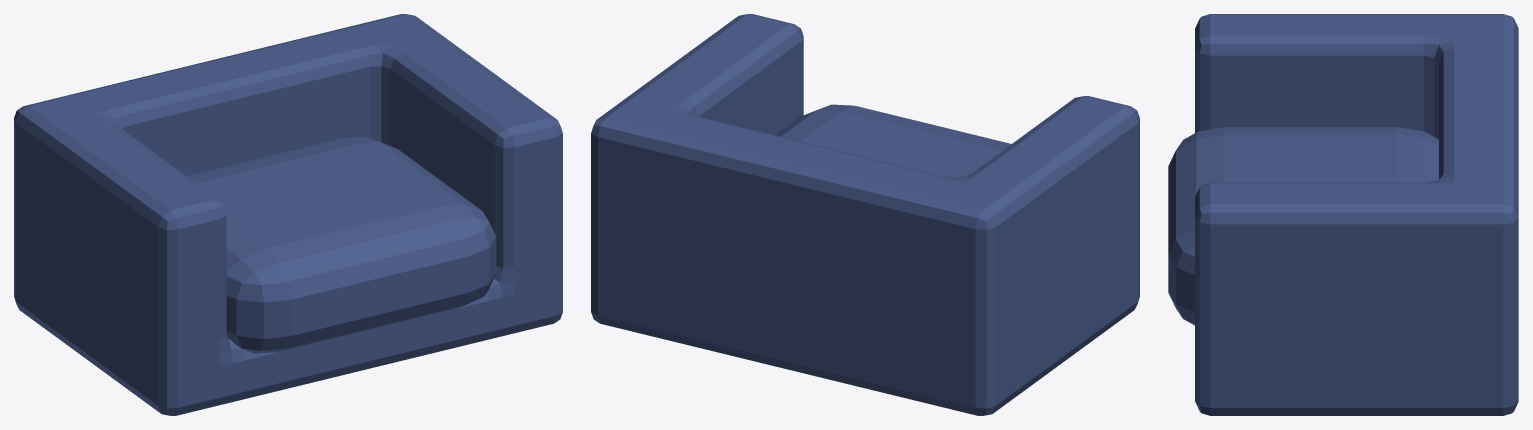
File: big_chair.gltf
3 renders of one model, left to right at view 1: azimuth 30°, elevation 25°; view 2: azimuth 150°, elevation 25°; view 3: azimuth 270°, elevation 25°, orthographic. The views are drawn at different scales.
Parts seen in each view (by area): view 1: Sofa C; view 2: Sofa C; view 3: Sofa C.
Boxes of the visible parts, x1,y1,x2,y2 form: Sofa C: (14,14,562,415); Sofa C: (591,14,1139,415); Sofa C: (1168,14,1518,415).
Bounding box in the file's own units: 5.57 × 2.71 × 4.07.
